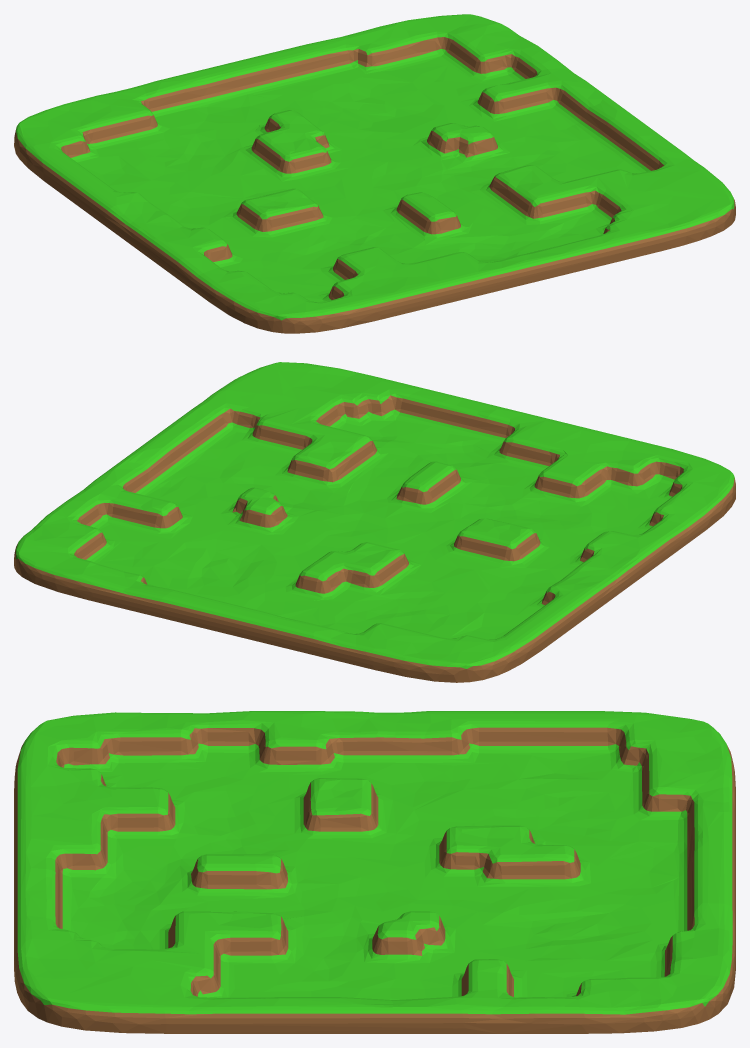
The model's file is terrain12.fbx.
3 renders of one model, top to bottom at view 1: azimuth 30°, elevation 25°; view 2: azimuth 150°, elevation 25°; view 3: azimuth 270°, elevation 25°, orthographic. The views are drawn at different scales.
Parts seen in each view (by area): view 1: terrain12; view 2: terrain12; view 3: terrain12.
Part boxes in pixels (x1=…): terrain12: x1=14, y1=14, x2=735, y2=333; terrain12: x1=14, y1=362, x2=735, y2=682; terrain12: x1=14, y1=711, x2=735, y2=1033.
Bounding box in the file's own units: 2960 × 115 × 2960.
